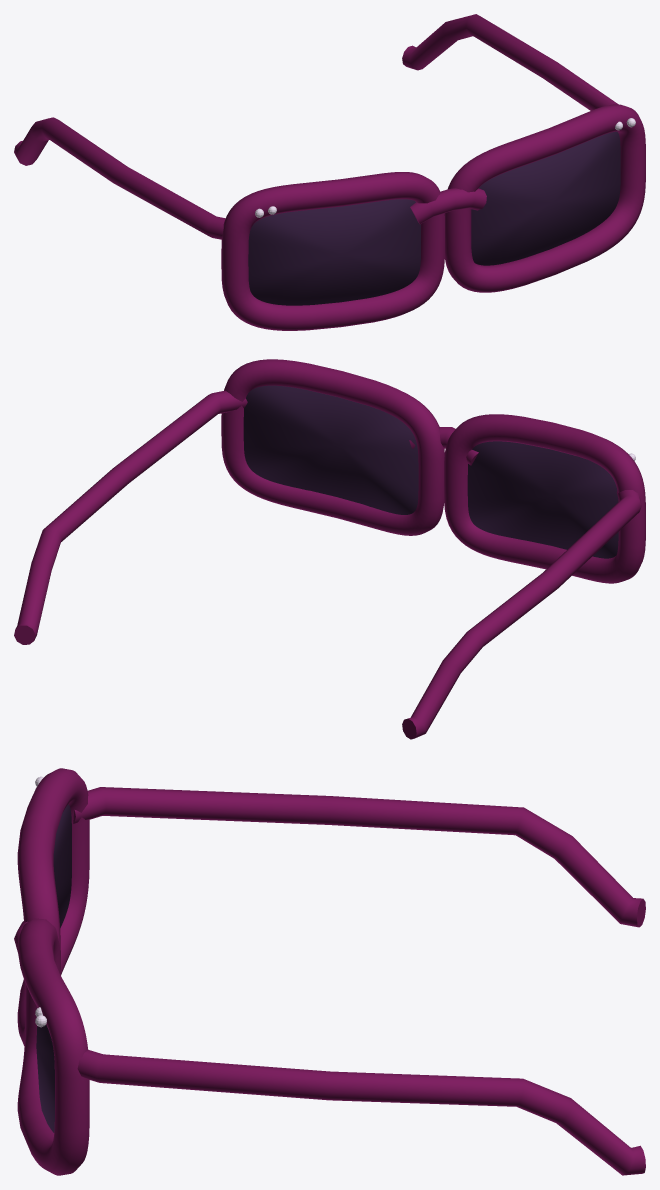
Rendered from orchid-frames.glb.
3 views of the same model, one above another, from view 1: azimuth 30°, elevation 25°; view 2: azimuth 150°, elevation 25°; view 3: azimuth 270°, elevation 25° (orthographic). The views are drawn at different scales.
Parts seen in each view (by area): view 1: Tinted lens, Acetate rim, Acetate rim.001, Tinted lens.001, Curved arm, Curved arm.001, Saddle bridge; view 2: Tinted lens.001, Acetate rim.001, Tinted lens, Acetate rim, Curved arm.001, Curved arm; view 3: Curved arm, Curved arm.001, Acetate rim.001, Acetate rim, Tinted lens, Tinted lens.001.
Part boxes in pixels (x1,y1,x2,y2): Tinted lens: [248, 199, 420, 305]; Acetate rim: [221, 172, 444, 330]; Acetate rim.001: [444, 104, 645, 292]; Tinted lens.001: [471, 131, 620, 265]; Curved arm: [14, 117, 225, 239]; Curved arm.001: [402, 14, 618, 110]; Saddle bridge: [410, 188, 486, 224]; Tinted lens.001: [243, 385, 418, 514]; Acetate rim.001: [221, 359, 444, 535]; Tinted lens: [467, 441, 618, 558]; Acetate rim: [444, 414, 645, 583]; Curved arm.001: [14, 390, 247, 644]; Curved arm: [402, 490, 641, 739]; Curved arm: [73, 787, 645, 927]; Curved arm.001: [77, 1050, 645, 1175]; Acetate rim.001: [17, 918, 89, 1175]; Acetate rim: [17, 768, 89, 1046]; Tinted lens: [53, 804, 71, 927]; Tinted lens.001: [36, 1024, 54, 1132].
Bounding box in the file's own units: 0.14 × 0.0446 × 0.1299.
